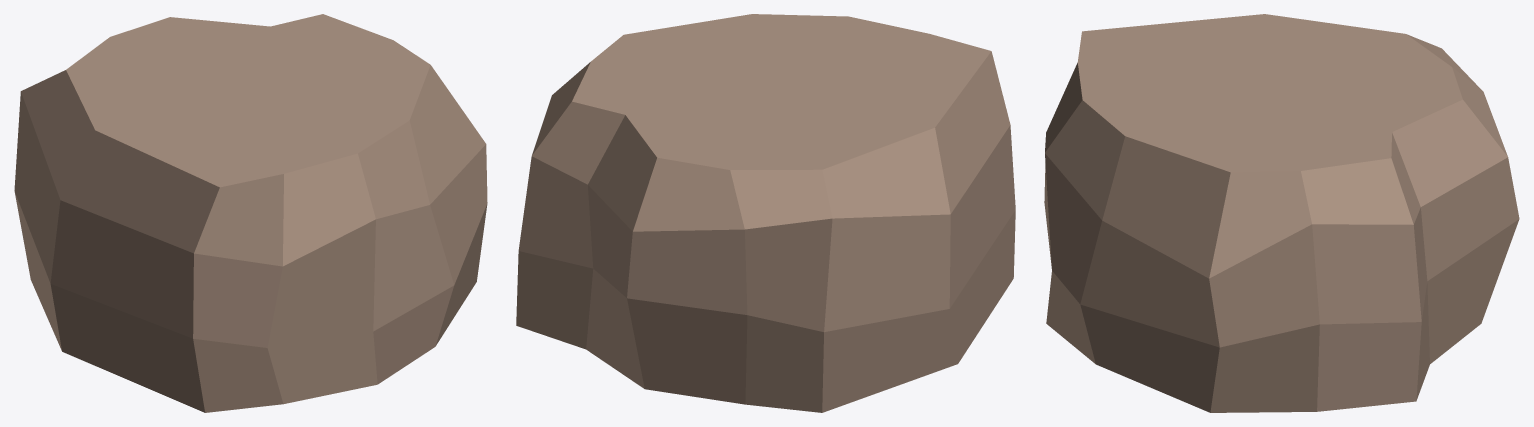
File: Stackable_Rock_2_2_1_Colored_v02.fbx
The picture shows the model from 3 angles, left to right: view 1: azimuth 30°, elevation 25°; view 2: azimuth 150°, elevation 25°; view 3: azimuth 270°, elevation 25°; orthographic projection. The views are drawn at different scales.
Parts seen in each view (by area): view 1: Stackable_Rock_5_3_4; view 2: Stackable_Rock_5_3_4; view 3: Stackable_Rock_5_3_4.
Part boxes in pixels (x1,y1,x2,y2): Stackable_Rock_5_3_4: [14, 14, 487, 412]; Stackable_Rock_5_3_4: [516, 14, 1015, 412]; Stackable_Rock_5_3_4: [1044, 14, 1519, 412].
Size of the model in its own units: 191 by 100 by 193.
